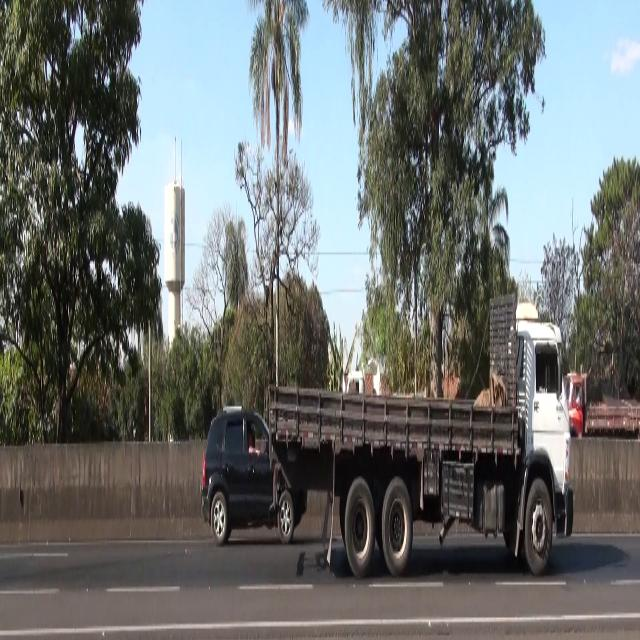-axle: (344, 474, 376, 584), (381, 478, 414, 578), (523, 482, 551, 570)
